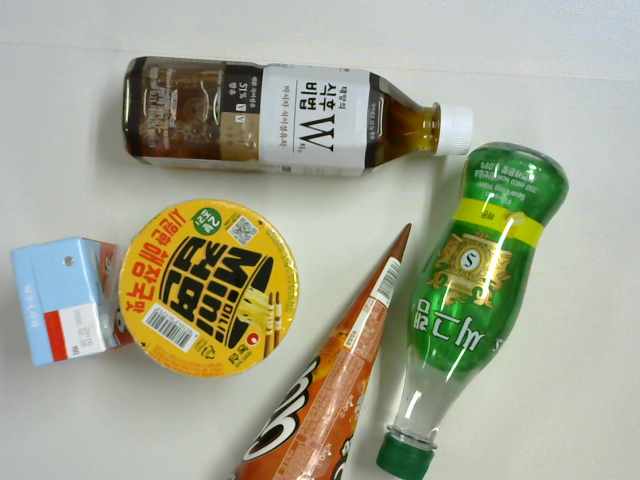GooGoo_Cone_CVS: (225, 221, 416, 480)
Hejangmini: (116, 197, 301, 380)
Picnic_Apple: (11, 236, 140, 368)
Post-meal_recipe_W_tea_500ml: (123, 53, 473, 181)
Seagram_Lemon_Carbonated_Water: (373, 141, 571, 480)
